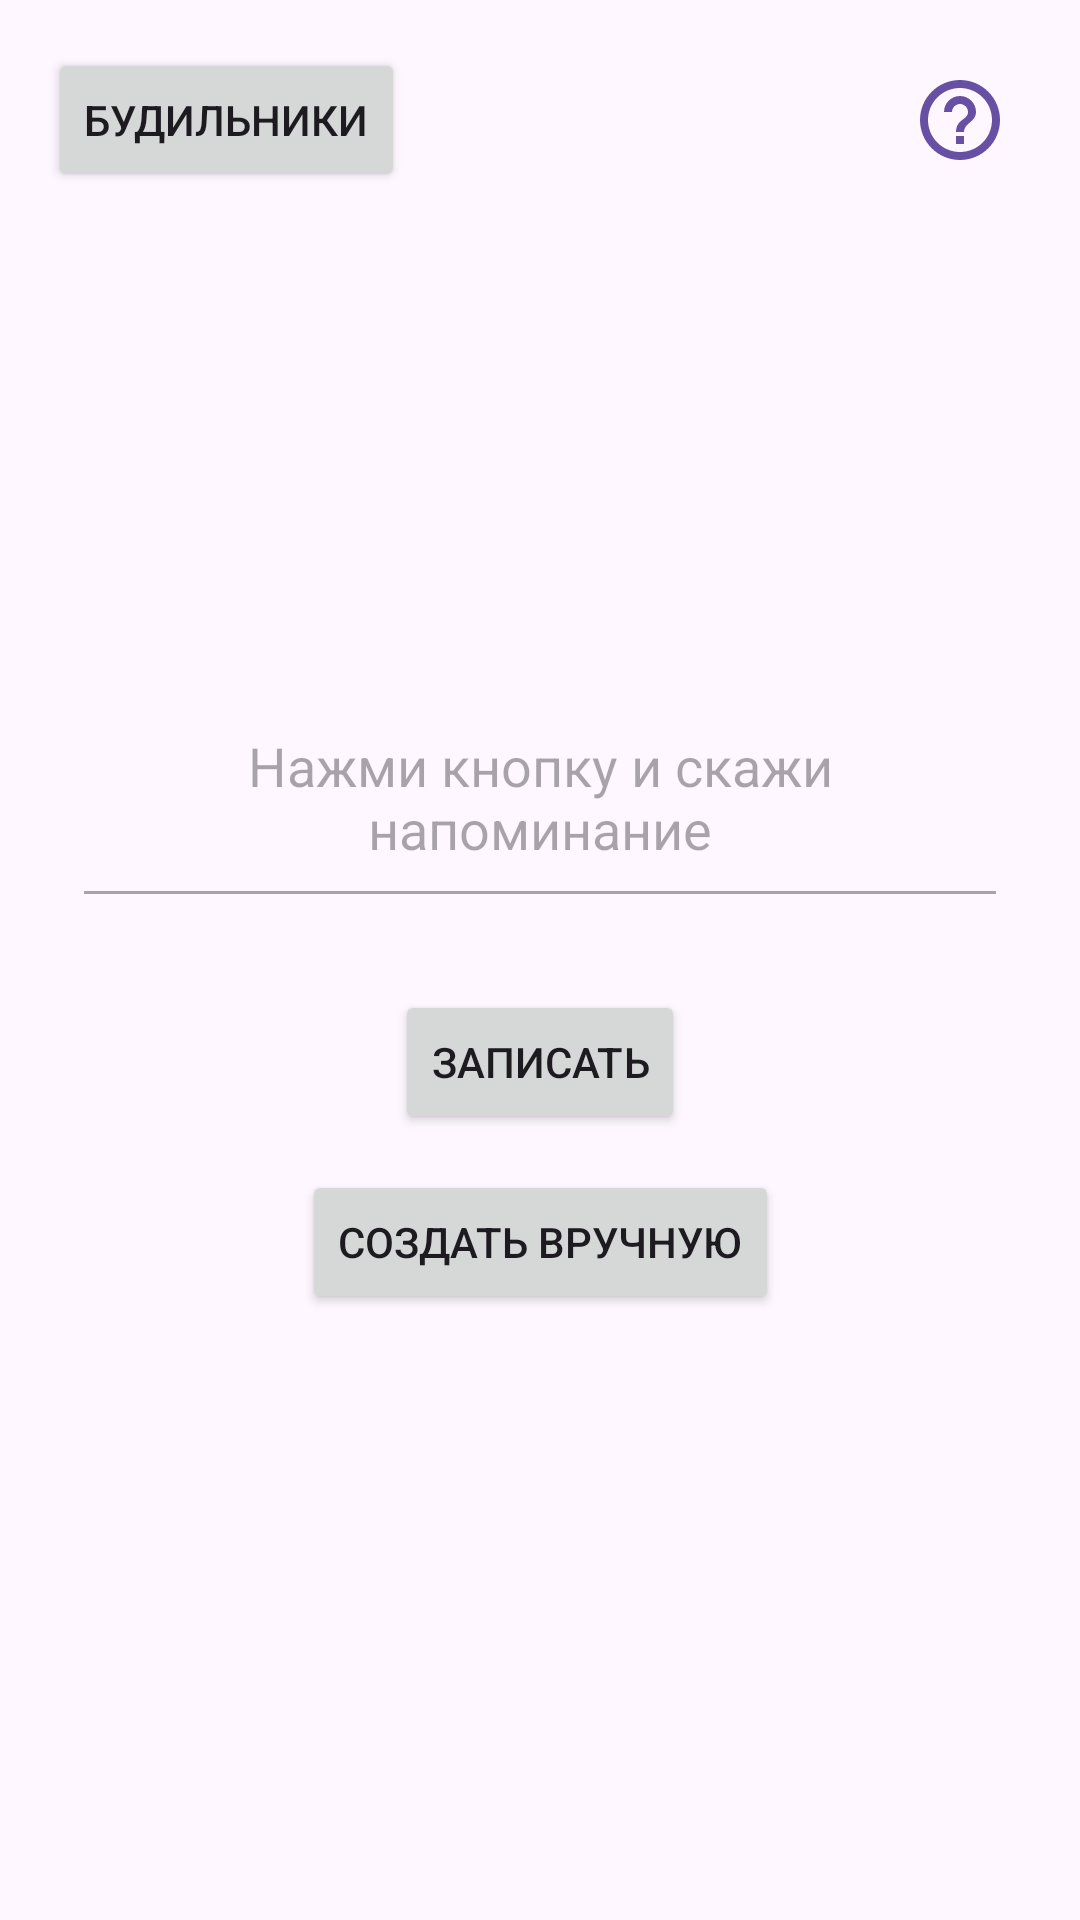

Locate icon controls on the screen. Image size 1080 × 1920, boxes as box(x1, y1, x2, y2).
Показать формат команды: box(920, 80, 1000, 160)
